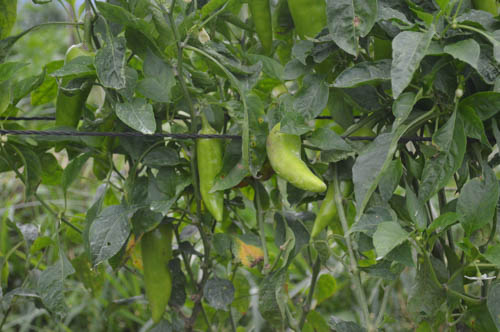ChiliPepper: (310, 129, 375, 239), (55, 47, 99, 152), (266, 125, 318, 196), (140, 224, 173, 322), (194, 131, 227, 222)
